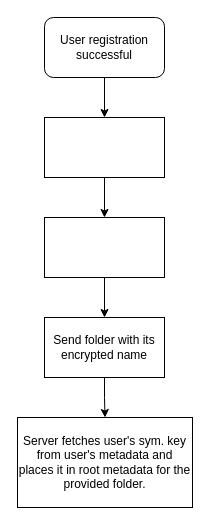
This 210x525 diagram has some shape labels left out. Each missing label, with the centre of its shape:
"Encrypt folder's name with symmetric key generated at register" belongs at [104,247].
"Locally create folder with its username" belongs at [104,147].
